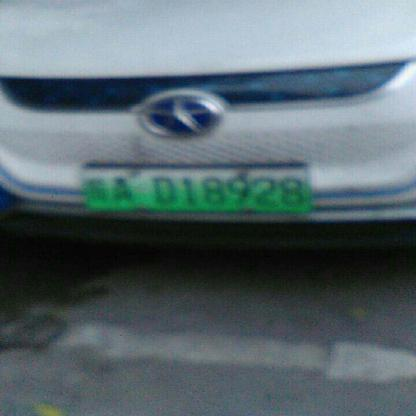lp: (81, 170, 311, 211)
